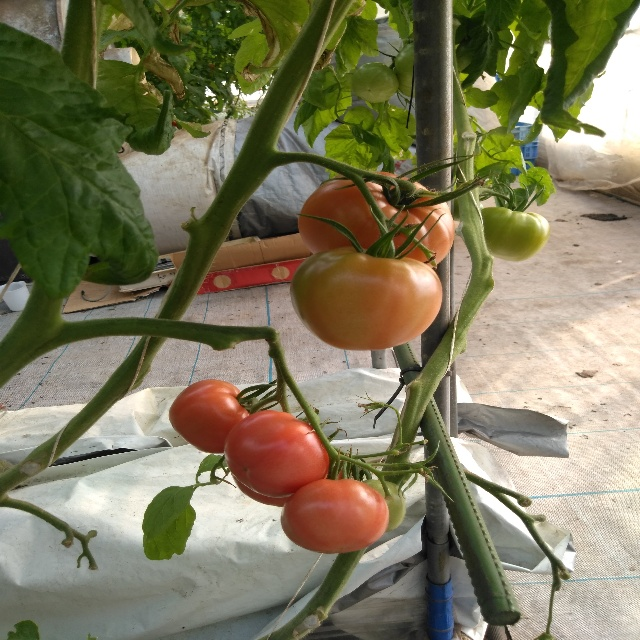b_fully_ripened: (223, 410, 331, 498), (169, 379, 254, 454)
b_green: (480, 206, 551, 262), (360, 479, 407, 532), (352, 62, 399, 104), (394, 41, 414, 98)
b_half_ripened: (289, 248, 443, 351), (298, 171, 455, 268), (280, 478, 390, 554)
